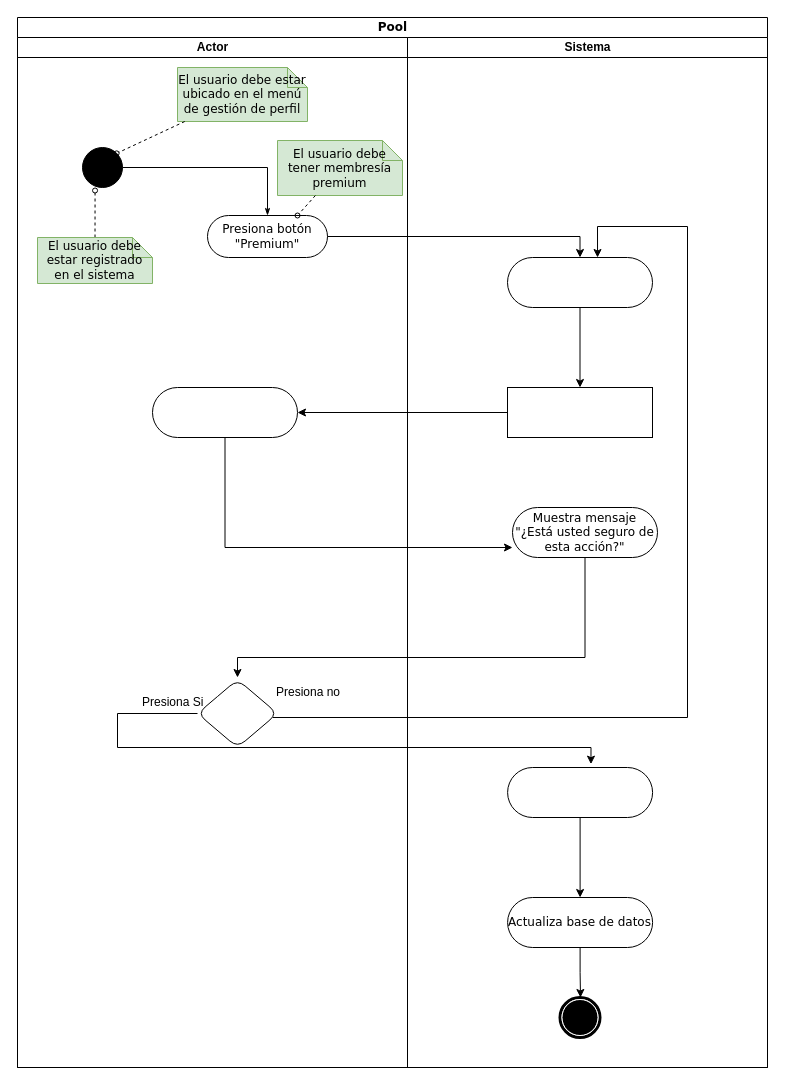
Some shapes in this 785 by 1085 pixel diagram are drawn without their labels. Here are the shapes that lost their labels. From the top down, the centre of each, then its label:
point (579, 282): Muestra interfaz "Estado de membresía premium"
point (225, 412): Presiona botón "terminar membresía"
point (579, 412): Información de membresía premium
point (580, 792): Muestra mensaje "membresía cancelada con éxito"
